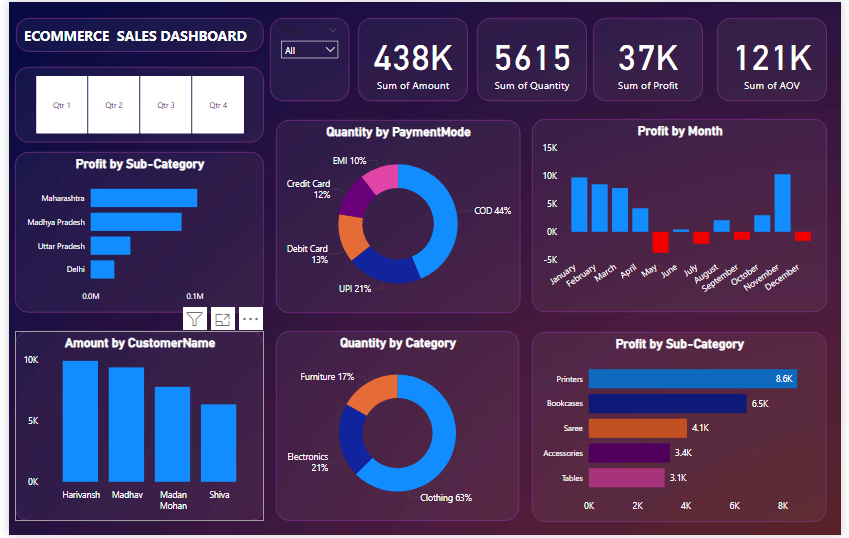

What the dashboard file says about the page in this screenshot:
{"tool":"powerbi","page":{"name":"Page 1","canvas":[1280,820],"ordinal":0},"visuals":[{"type":"textbox","box":[10.1,24.4,381.1,51.8],"z":0},{"type":"columnChart","title":"Profit by Month","fields":{"Category":["Orders.Order Date.Variation.Date Hierarchy.Month"],"Y":["Sum(Details.Profit)"]},"box":[804.5,180.6,454.1,296.8],"z":1000},{"type":"barChart","title":"Profit by Sub-Category","fields":{"Category":["Details.Sub-Category"],"Y":["Sum(Details.Profit)"]},"box":[804.9,507.6,452.9,292.2],"z":2000},{"type":"donutChart","title":"Quantity by Category","fields":{"Y":["Sum(Details.Quantity)"],"Category":["Details.Category"]},"box":[411.1,506.9,373.7,292],"z":3000},{"type":"donutChart","title":"Quantity by PaymentMode","fields":{"Y":["Sum(Details.Quantity)"],"Category":["Details.PaymentMode"]},"box":[410.4,180.9,375.7,297.4],"z":4000},{"type":"card","fields":{"Values":["Sum(Details.Amount)"]},"box":[536.6,23.9,169.2,128.2],"z":5000},{"type":"card","fields":{"Values":["Sum(Details.Profit)"]},"box":[898.9,23.9,169.2,128.2],"z":6000},{"type":"card","fields":{"Values":["Sum(Details.AOV)"]},"box":[1088.6,23.9,169.2,128.2],"z":7000},{"type":"card","fields":{"Values":["Sum(Details.Quantity)"]},"box":[719.5,23.9,169.2,128.2],"z":8000},{"type":"barChart","title":"Profit by Sub-Category","fields":{"Y":["Sum(Details.Amount)"],"Category":["Orders.State"]},"box":[8.9,230.6,382.6,246.7],"z":9000},{"type":"columnChart","title":"Amount by CustomerName","fields":{"Category":["Orders.CustomerName"],"Y":["Sum(Details.Amount)"]},"box":[9.3,506.9,383.1,292],"z":10000},{"type":"slicer","fields":{"Values":["Orders.Order Date.Variation.Date Hierarchy.Quarter"]},"box":[8.9,100.1,382.6,116.2],"z":11000},{"type":"slicer","fields":{"Values":["Orders.State"]},"box":[401.3,24.4,122.2,128],"z":12000}]}

Visuals, with their boxes in screenshot pixels (x1, y1, x2, y2), scaled from the page's 1280x820 canvas onto the 849x538 screenshot:
textbox: {"x1": 7, "y1": 16, "x2": 259, "y2": 50}
"Profit by Month" columnChart: {"x1": 534, "y1": 118, "x2": 835, "y2": 313}
"Profit by Sub-Category" barChart: {"x1": 534, "y1": 333, "x2": 834, "y2": 525}
"Quantity by Category" donutChart: {"x1": 273, "y1": 333, "x2": 521, "y2": 524}
"Quantity by PaymentMode" donutChart: {"x1": 272, "y1": 119, "x2": 521, "y2": 314}
card - Sum(Details.Amount): {"x1": 356, "y1": 16, "x2": 468, "y2": 100}
card - Sum(Details.Profit): {"x1": 596, "y1": 16, "x2": 708, "y2": 100}
card - Sum(Details.AOV): {"x1": 722, "y1": 16, "x2": 834, "y2": 100}
card - Sum(Details.Quantity): {"x1": 477, "y1": 16, "x2": 589, "y2": 100}
"Profit by Sub-Category" barChart: {"x1": 6, "y1": 151, "x2": 260, "y2": 313}
"Amount by CustomerName" columnChart: {"x1": 6, "y1": 333, "x2": 260, "y2": 524}
slicer - Orders.Order Date.Variation.Date Hierarchy.Quarter: {"x1": 6, "y1": 66, "x2": 260, "y2": 142}
slicer - Orders.State: {"x1": 266, "y1": 16, "x2": 347, "y2": 100}
